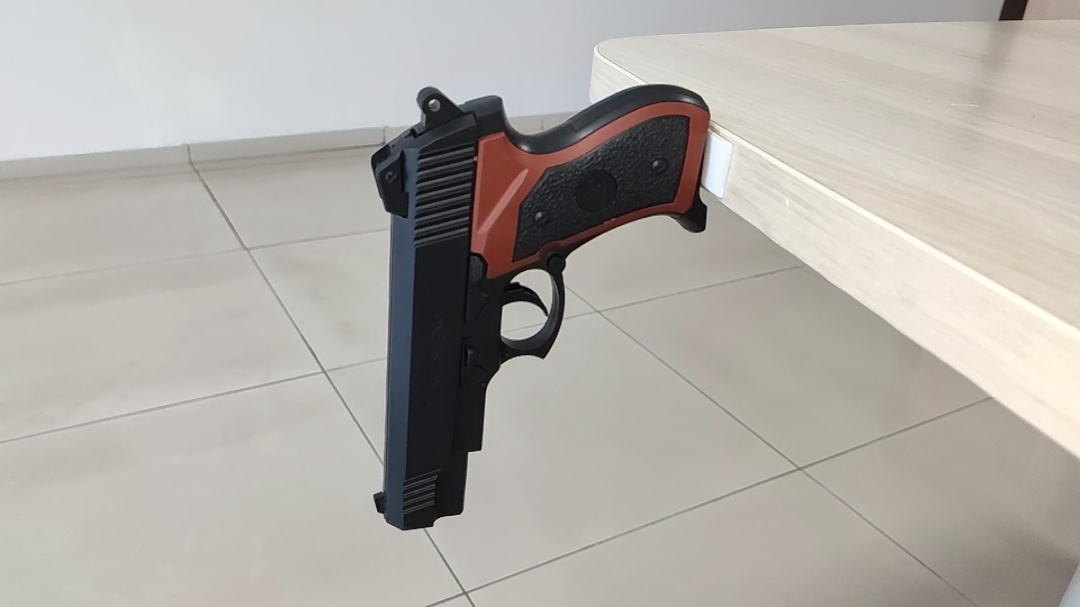gun: (365, 77, 712, 539)
